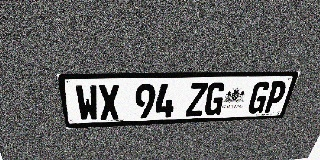4: (155, 83, 176, 118)
9: (135, 84, 156, 119)
G: (246, 81, 272, 114), (203, 82, 227, 116)
P: (262, 81, 289, 113)
W: (75, 85, 100, 121)
X: (98, 84, 120, 120)
Z: (185, 83, 208, 116)
